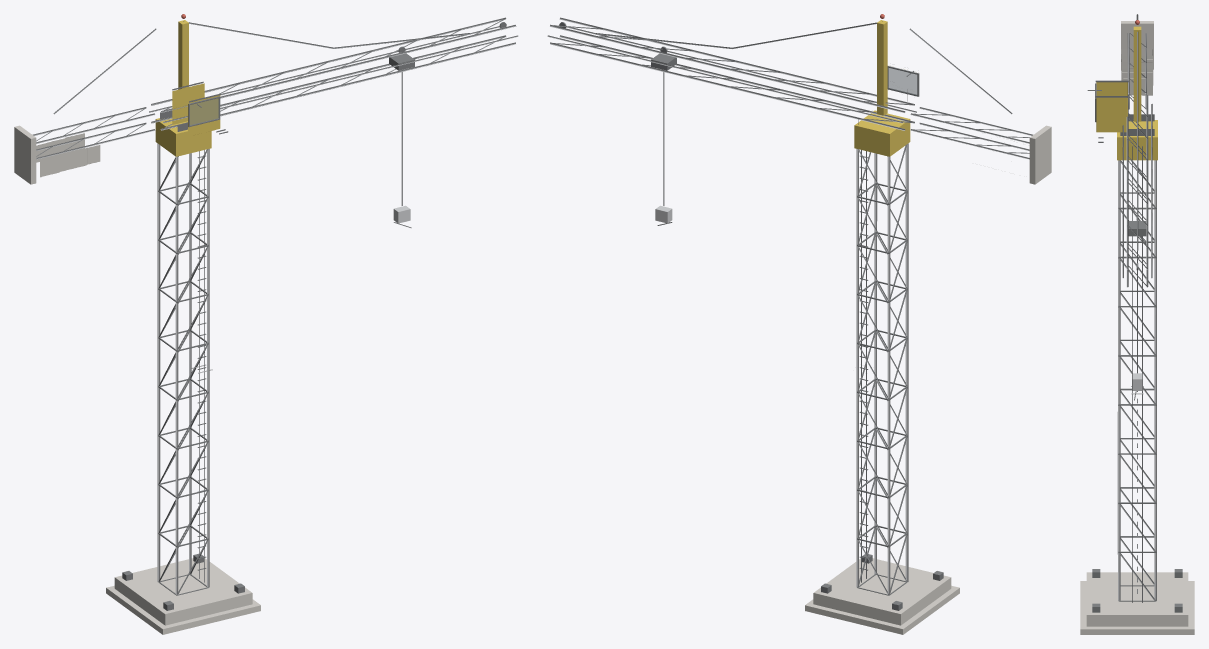
The model's file is crane.glb.
3 views of the same model, side by side, from view 1: azimuth 30°, elevation 25°; view 2: azimuth 150°, elevation 25°; view 3: azimuth 270°, elevation 25° (orthographic).
Visible parts, largest first — view 1: darkMetal, metal, concrete, safety; view 2: darkMetal, metal, concrete, safety; view 3: concrete, darkMetal, metal, safety.
Boxes of the visible parts, x1,y1,x2,y2 form: darkMetal: (33, 18, 518, 610); metal: (32, 17, 517, 594); concrete: (14, 125, 260, 634); safety: (155, 20, 220, 156); darkMetal: (547, 18, 1032, 610); metal: (548, 17, 1033, 594); concrete: (805, 125, 1051, 634); safety: (854, 20, 910, 156); concrete: (1080, 21, 1194, 634); darkMetal: (1087, 14, 1182, 612); metal: (1117, 33, 1156, 600); safety: (1096, 26, 1157, 160).
Size of the model in its own units: 35.81 by 41.16 by 7.2.
